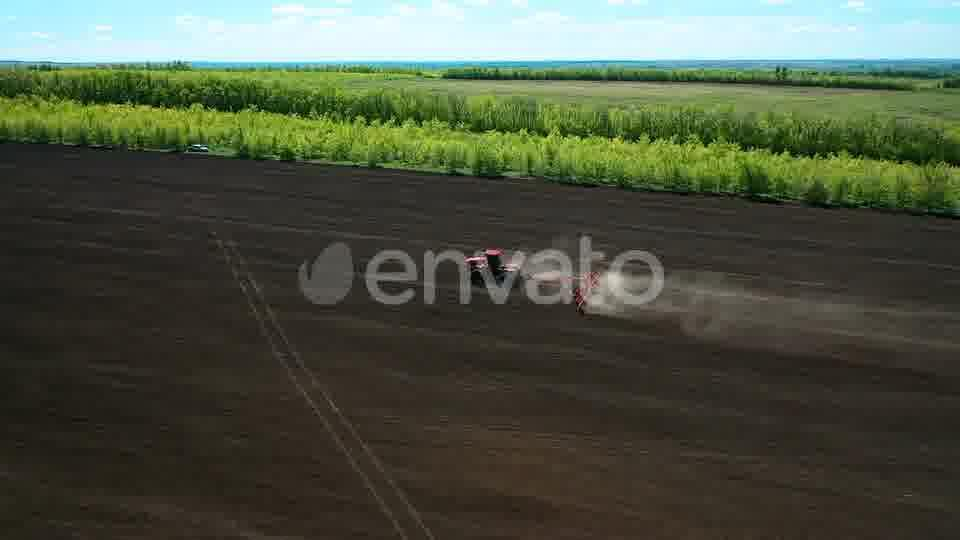tractor: (464, 250, 525, 287)
